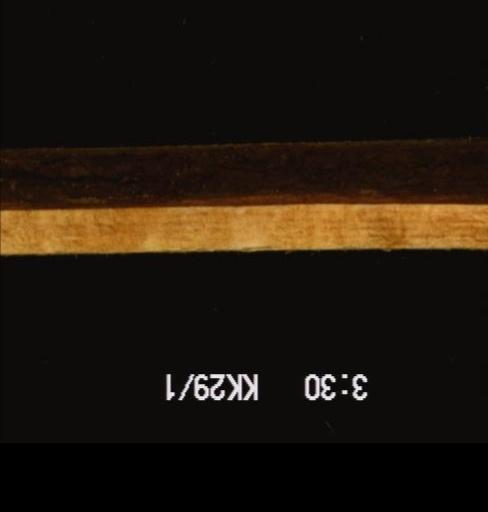wave: (0, 141, 486, 212)
